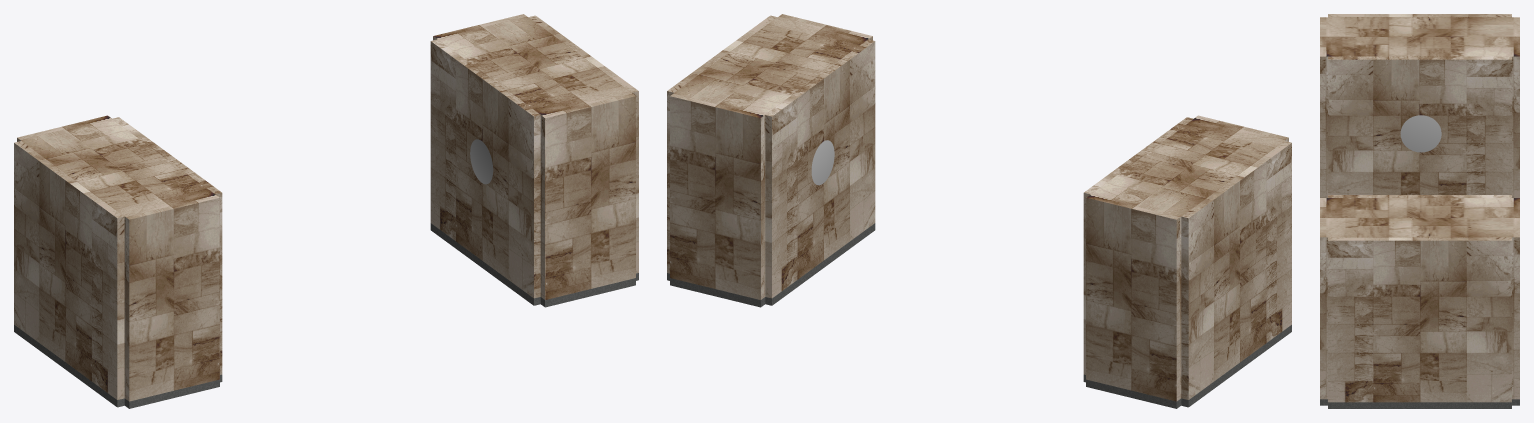
The model's file is Subway04Column01.FBX.
3 views of the same model, side by side, from view 1: azimuth 30°, elevation 25°; view 2: azimuth 150°, elevation 25°; view 3: azimuth 270°, elevation 25° (orthographic). The views are drawn at different scales.
Visible parts, largest first — view 1: Subway04Column01, Subway04Column01Decor; view 2: Subway04Column01, Subway04Column01Decor; view 3: Subway04Column01, Subway04Column01Decor.
Boxes of the visible parts, x1,y1,x2,y2 form: Subway04Column01: (14, 14, 638, 408); Subway04Column01Decor: (470, 139, 493, 184); Subway04Column01: (667, 14, 1291, 408); Subway04Column01Decor: (811, 140, 834, 185); Subway04Column01: (1320, 14, 1519, 408); Subway04Column01Decor: (1400, 115, 1441, 152).
Size of the model in its own units: 13414 by 4650 by 5000.
